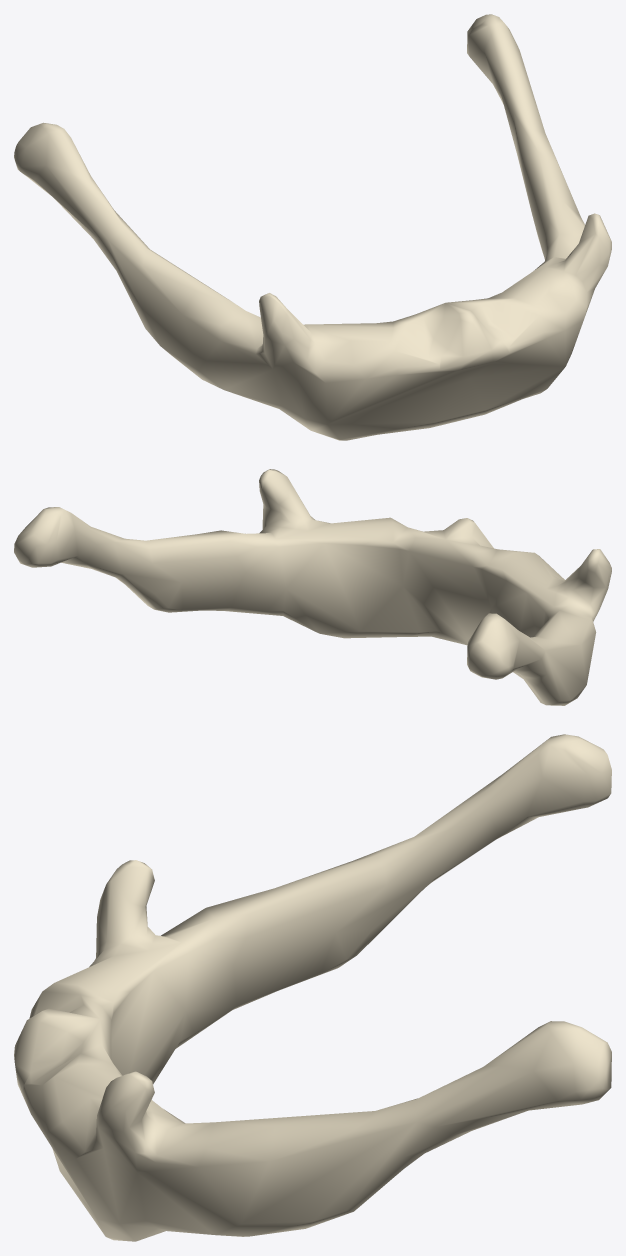
File: esqueleto-hyoid-bone.glb
The picture shows the model from 3 angles, top to bottom: view 1: azimuth 30°, elevation 25°; view 2: azimuth 150°, elevation 25°; view 3: azimuth 270°, elevation 25°; orthographic projection. The views are drawn at different scales.
Visible parts, largest first — view 1: Hyoid bone; view 2: Hyoid bone; view 3: Hyoid bone.
Boxes of the visible parts, box(x1,y1,x2,y2) form: Hyoid bone: box(14, 14, 611, 440); Hyoid bone: box(14, 469, 611, 705); Hyoid bone: box(14, 734, 611, 1241).
Size of the model in its own units: 0.0455 by 0.0195 by 0.0359.
